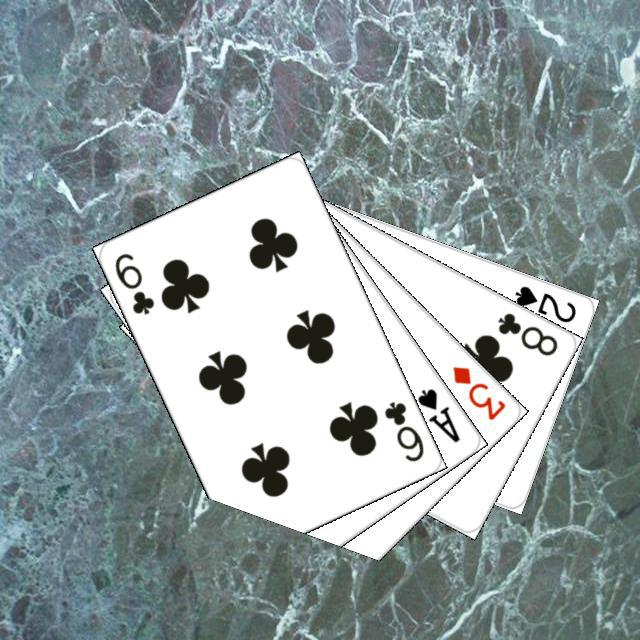2s: (510, 280, 578, 325)
3d: (447, 361, 507, 422)
6c: (109, 247, 156, 317), (379, 396, 426, 464)
8c: (492, 307, 560, 358)
As: (412, 383, 462, 445)
